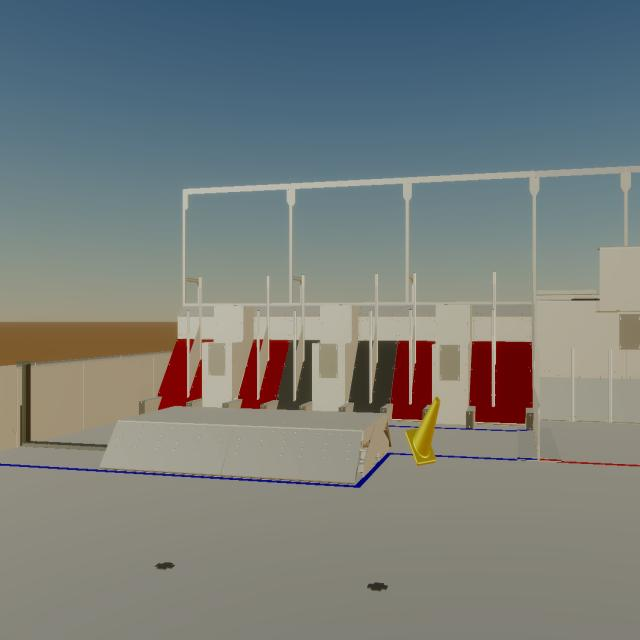frc_cone: (405, 396, 440, 466)
